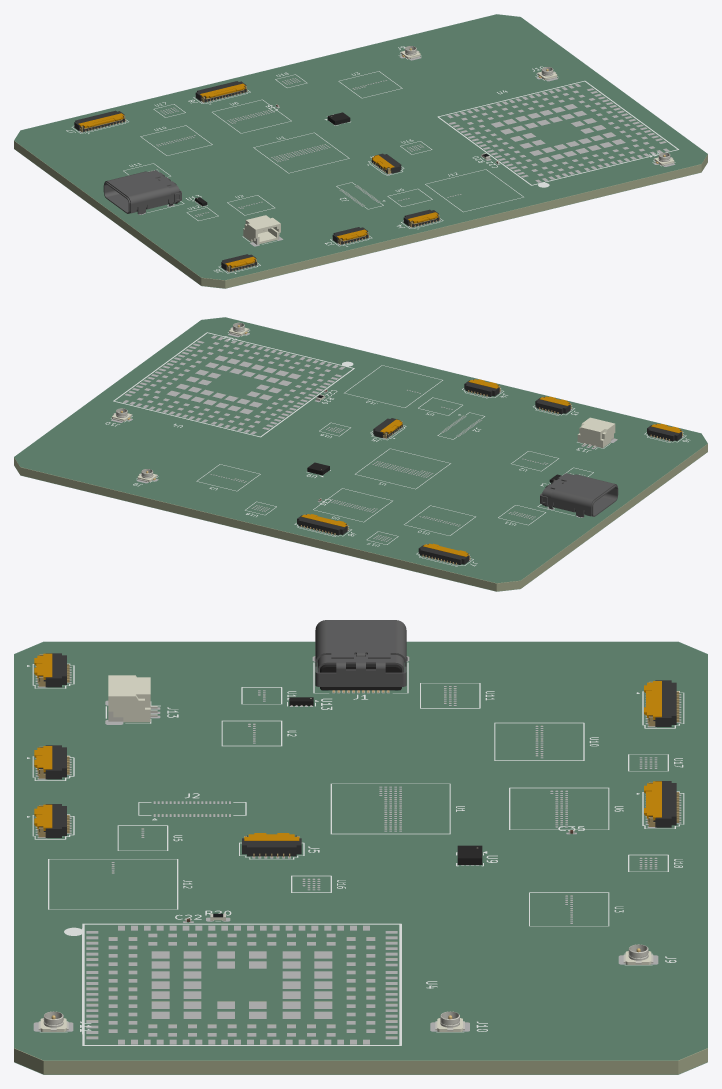
The model's file is main_board.glb.
3 views of the same model, one above another, from view 1: azimuth 30°, elevation 25°; view 2: azimuth 150°, elevation 25°; view 3: azimuth 270°, elevation 25° (orthographic). The views are drawn at different scales.
Parts seen in each view (by area): view 1: =>[0:1:1:47], =>[0:1:1:49], =>[0:1:1:44], =>[0:1:1:45], =>[0:1:1:19], =>[0:1:1:23], =>[0:1:1:48]; view 2: =>[0:1:1:47], =>[0:1:1:49], =>[0:1:1:44], =>[0:1:1:45], =>[0:1:1:19], body (×2), =>[0:1:1:23], =>[0:1:1:48]; view 3: =>[0:1:1:47], =>[0:1:1:49], =>[0:1:1:44], =>[0:1:1:45], =>[0:1:1:19], body (×3), =>[0:1:1:23], =>[0:1:1:48].
Boxes of the visible parts, box(x1,y1,x2,y2) form: =>[0:1:1:47]: box(14, 14, 707, 280); =>[0:1:1:49]: box(14, 15, 707, 288); =>[0:1:1:44]: box(79, 52, 675, 272); =>[0:1:1:45]: box(66, 46, 678, 273); =>[0:1:1:19]: box(103, 170, 181, 214); =>[0:1:1:23]: box(243, 215, 280, 244); =>[0:1:1:48]: box(14, 149, 706, 288); =>[0:1:1:47]: box(14, 317, 707, 583); =>[0:1:1:49]: box(14, 318, 707, 591); =>[0:1:1:44]: box(111, 329, 683, 565); =>[0:1:1:45]: box(105, 330, 690, 566); =>[0:1:1:19]: box(540, 473, 618, 517); body (×2): box(297, 514, 469, 564); =>[0:1:1:23]: box(577, 417, 615, 447); =>[0:1:1:48]: box(15, 452, 707, 591); =>[0:1:1:47]: box(14, 641, 707, 1060); =>[0:1:1:49]: box(14, 642, 707, 1074); =>[0:1:1:44]: box(33, 656, 681, 1044); =>[0:1:1:45]: box(27, 662, 684, 1045); =>[0:1:1:19]: box(315, 620, 406, 692); body (×3): box(242, 680, 676, 856); =>[0:1:1:23]: box(108, 675, 157, 722); =>[0:1:1:48]: box(14, 1062, 707, 1074).
Size of the model in its own units: 0.1 by 0.00651 by 0.07.
